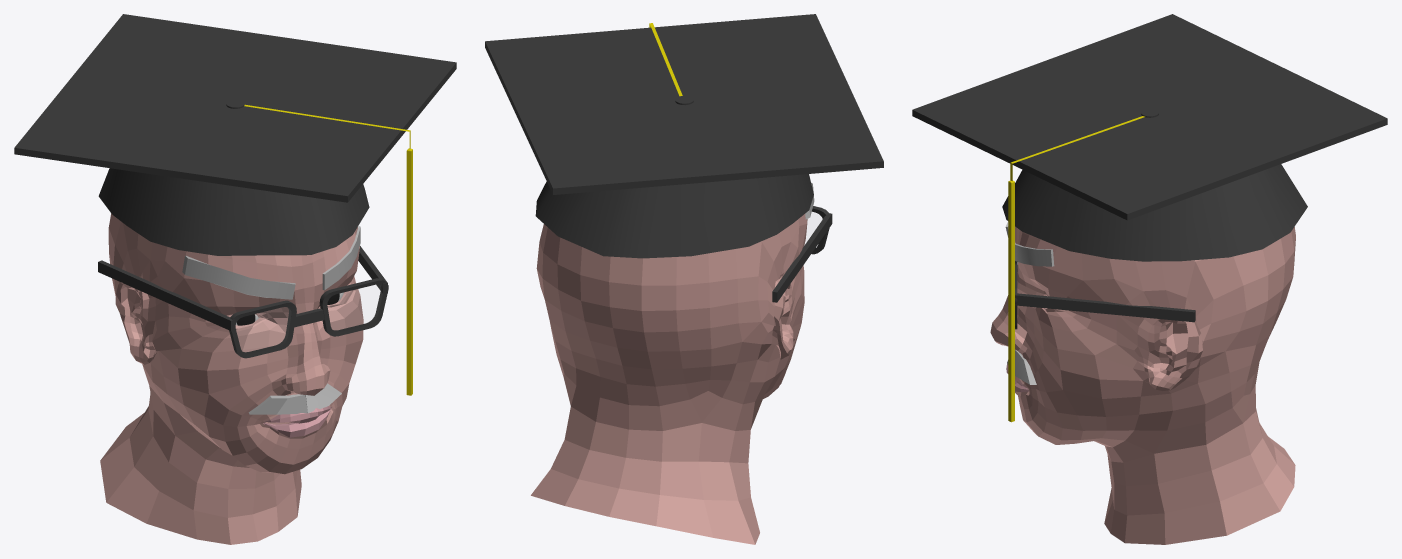
The model's file is GradOldMan3.fbx.
The picture shows the model from 3 angles, left to right: view 1: azimuth 30°, elevation 25°; view 2: azimuth 150°, elevation 25°; view 3: azimuth 270°, elevation 25°; orthographic projection. The views are drawn at different scales.
Visible parts, largest first — view 1: Face, HatVisor, HatHead, RightEyeBrow, RightHandle, BigTassel, MoustachePoly, LeftLens, RightLens, LeftEyeBrow; view 2: Face, HatVisor, HatHead, RightHandle; view 3: Face, HatVisor, HatHead, LeftHandle, BigTassel, LeftEyeBrow.
Boxes of the visible parts, left/top/right/bottom form: Face: left=100, top=213, right=363, bottom=544; HatVisor: left=14, top=14, right=456, bottom=202; HatHead: left=98, top=168, right=369, bottom=255; RightEyeBrow: left=182, top=255, right=295, bottom=299; RightHandle: left=98, top=260, right=234, bottom=330; BigTassel: left=406, top=148, right=412, bottom=395; MoustachePoly: left=248, top=383, right=341, bottom=414; LeftLens: left=319, top=278, right=388, bottom=336; RightLens: left=229, top=300, right=296, bottom=358; LeftEyeBrow: left=322, top=226, right=360, bottom=290; Face: left=531, top=214, right=807, bottom=544; HatVisor: left=485, top=14, right=883, bottom=194; HatHead: left=535, top=174, right=813, bottom=258; RightHandle: left=772, top=213, right=832, bottom=302; Face: left=990, top=226, right=1295, bottom=544; HatVisor: left=912, top=14, right=1387, bottom=220; HatHead: left=1002, top=164, right=1307, bottom=261; LeftHandle: left=1015, top=293, right=1195, bottom=322; BigTassel: left=1008, top=180, right=1014, bottom=422; LeftEyeBrow: left=1015, top=243, right=1054, bottom=266.
Size of the model in its own units: 20.86 by 20 by 20.93.
